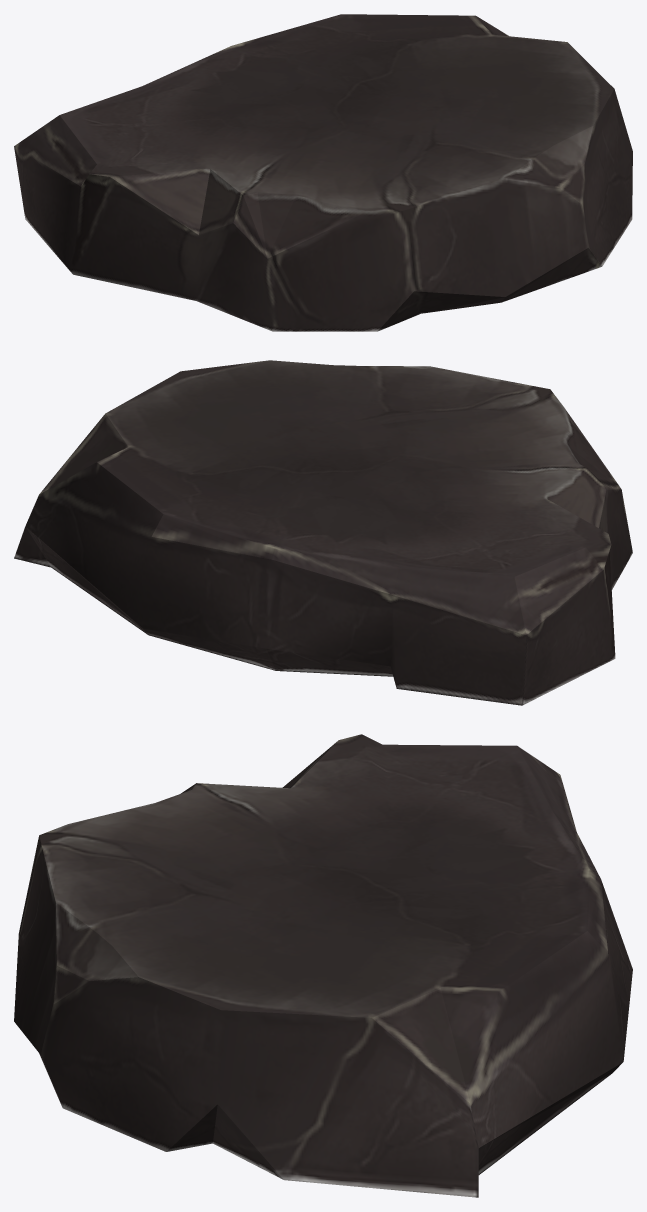
File: Rock03.FBX
3 renders of one model, top to bottom at view 1: azimuth 30°, elevation 25°; view 2: azimuth 150°, elevation 25°; view 3: azimuth 270°, elevation 25°, orthographic. The views are drawn at different scales.
Parts seen in each view (by area): view 1: Rock03; view 2: Rock03; view 3: Rock03.
Boxes of the visible parts, bbox=[...] form: Rock03: bbox=[14, 14, 632, 331]; Rock03: bbox=[14, 360, 632, 705]; Rock03: bbox=[14, 734, 632, 1197].
Bounding box in the file's own units: 217 × 47.5 × 171.
